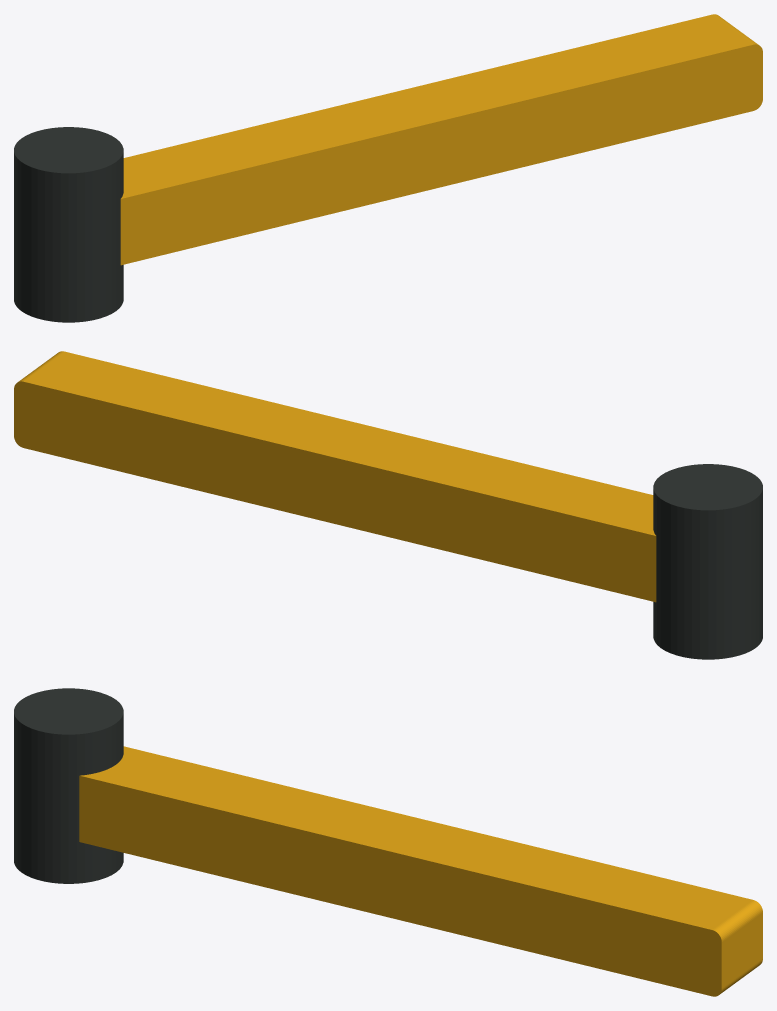
Rendered from arm_fore_link.obj.
3 views of the same model, one above another, from view 1: azimuth 30°, elevation 25°; view 2: azimuth 150°, elevation 25°; view 3: azimuth 330°, elevation 25° (orthographic).
Visible parts, largest first — view 1: beam_1, clevis_0; view 2: beam_1, clevis_0; view 3: beam_1, clevis_0.
Part boxes in pixels (x1=…): beam_1: x1=120, y1=14, x2=762, y2=265; clevis_0: x1=14, y1=127, x2=123, y2=322; beam_1: x1=14, y1=351, x2=656, y2=602; clevis_0: x1=653, y1=464, x2=762, y2=659; beam_1: x1=79, y1=746, x2=762, y2=996; clevis_0: x1=14, y1=688, x2=123, y2=883.
Size of the model in its own units: 0.91 by 0.18 by 0.1197.
